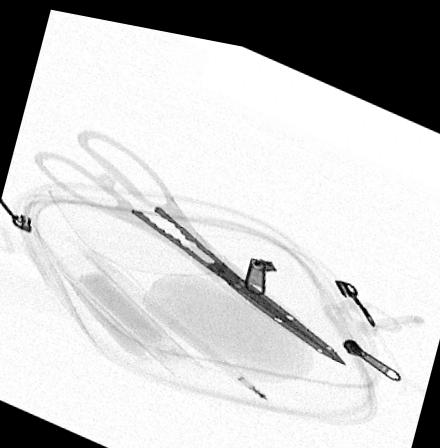Scissors: (25, 119, 353, 358)
